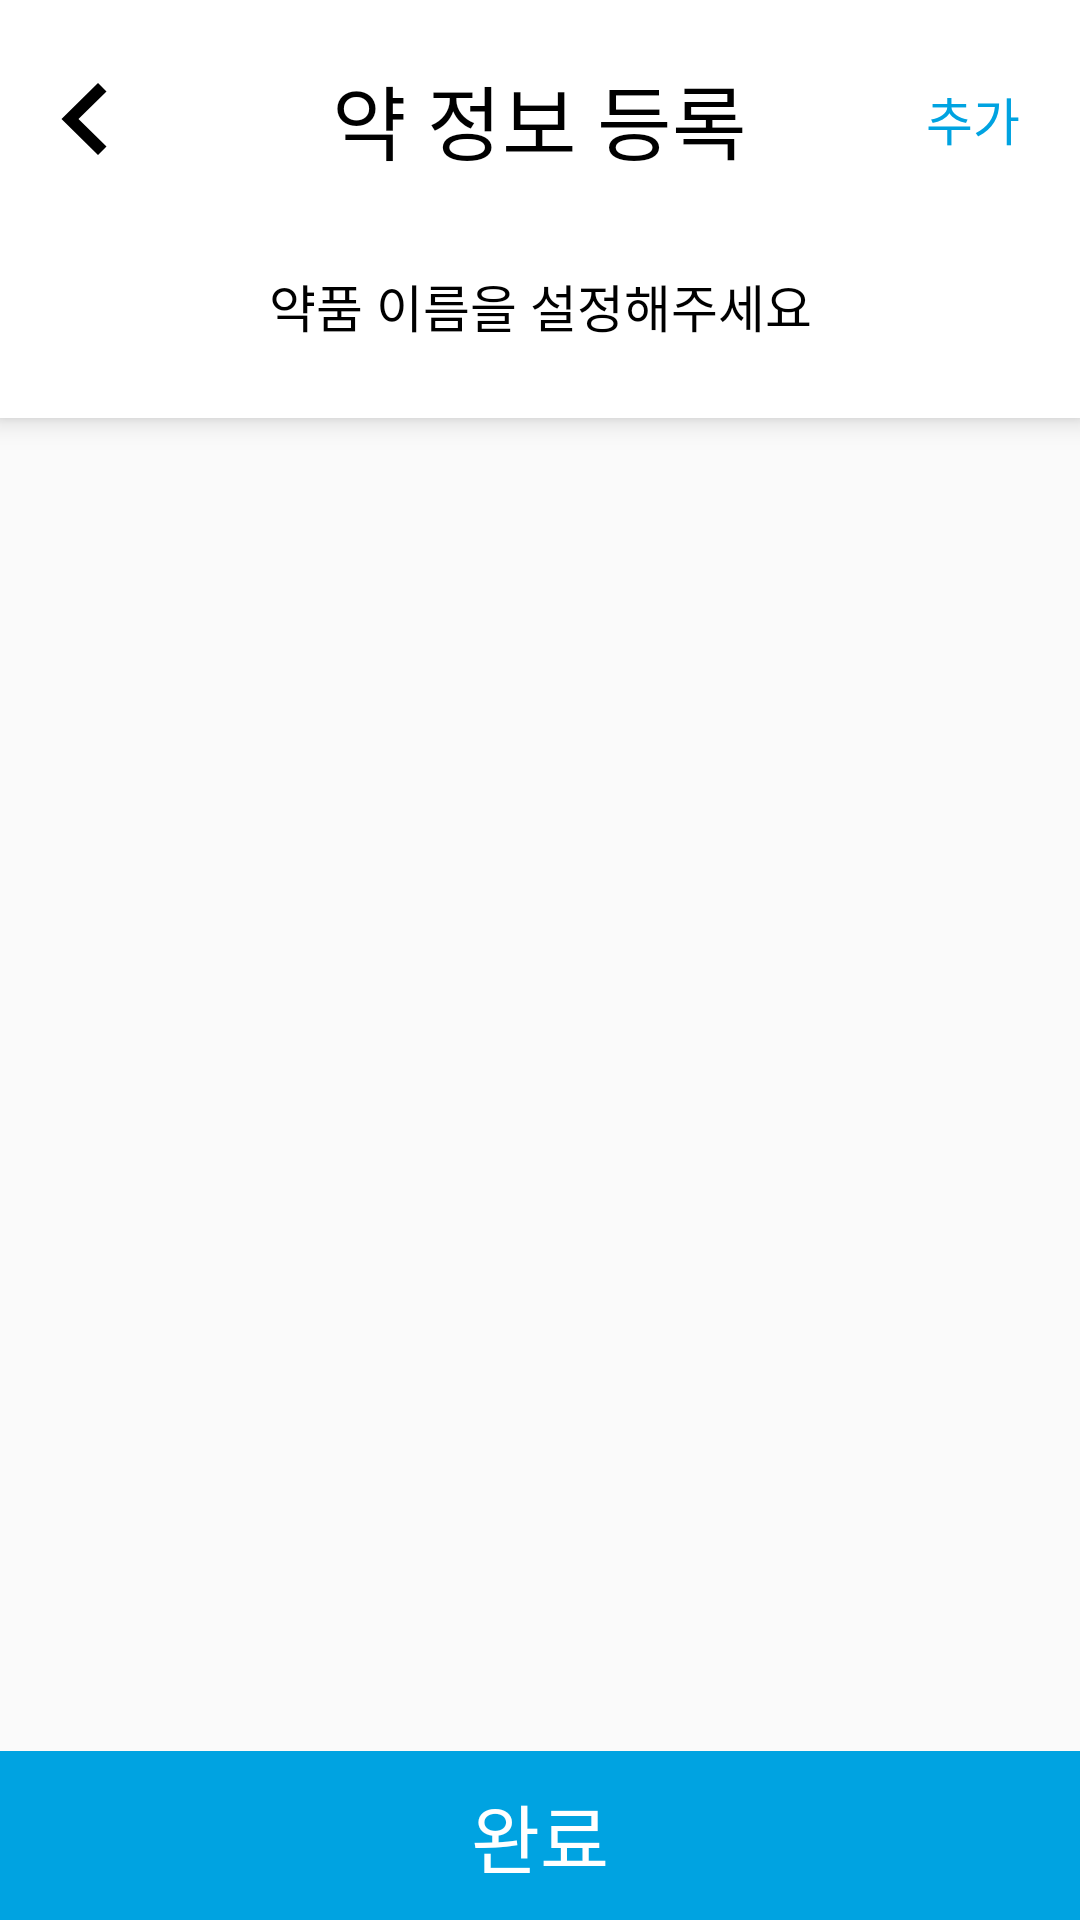

Icon bounding boxes for this 1080px x 1920px phone screenshot, format (x1, y1, x2, y2):
back: (61, 83, 107, 155)
